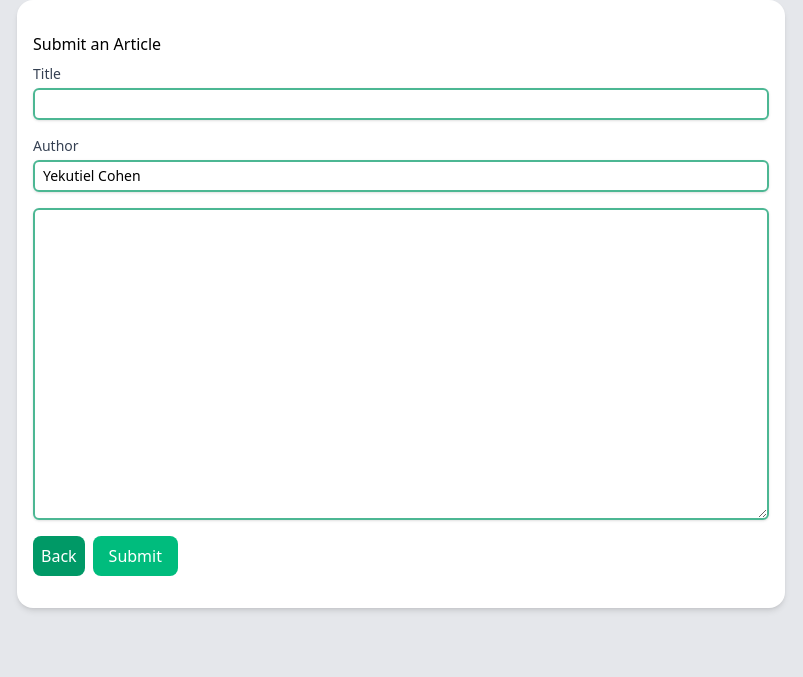
AddArticle › validation › requires a title
What coordinates should you click on to do the following:
click the button "Submit"
I would click on:
 (135, 556)
Its box is [93,536,178,576].
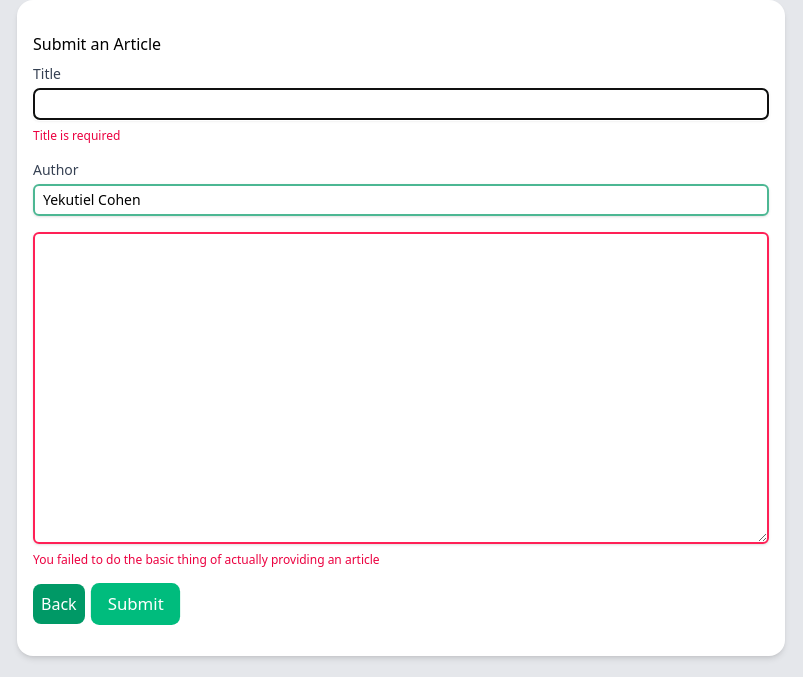
Expected: the text "Title is required" is shown, [33,127,120,144]
